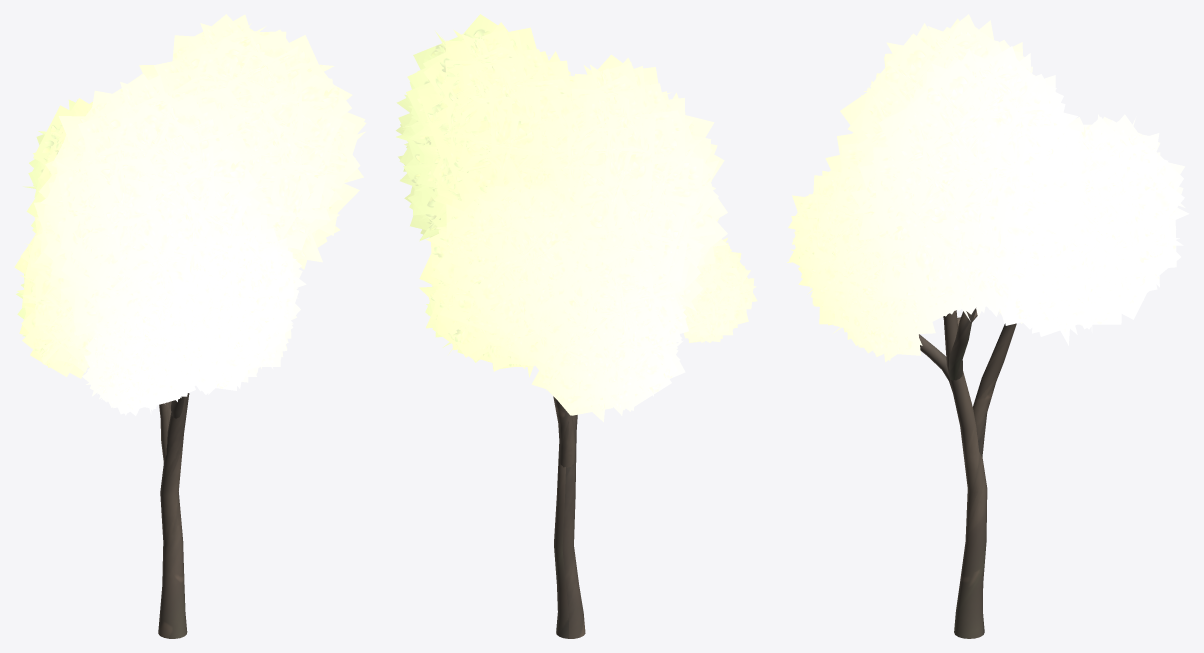
File: SM_Tree_03.fbx
3 views of the same model, side by side, from view 1: azimuth 30°, elevation 25°; view 2: azimuth 150°, elevation 25°; view 3: azimuth 270°, elevation 25° (orthographic). The views are drawn at different scales.
Parts seen in each view (by area): view 1: SM_Tree_03_LOD0; view 2: SM_Tree_03_LOD0; view 3: SM_Tree_03_LOD0.
Part boxes in pixels (x1=…): SM_Tree_03_LOD0: x1=14, y1=14, x2=366, y2=638; SM_Tree_03_LOD0: x1=396, y1=14, x2=757, y2=638; SM_Tree_03_LOD0: x1=787, y1=14, x2=1189, y2=638.
Bounding box in the file's own units: 698 × 763 × 1286.
Materials: 2 (1 with a texture image).
